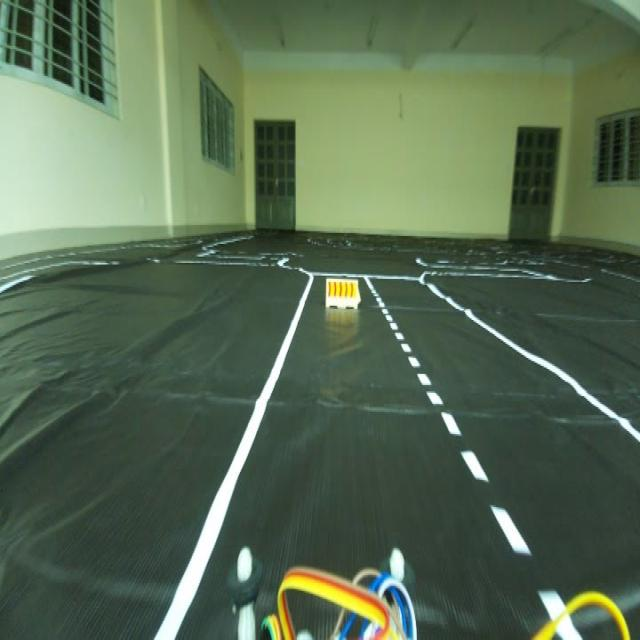roadblock: (322, 267, 368, 314)
